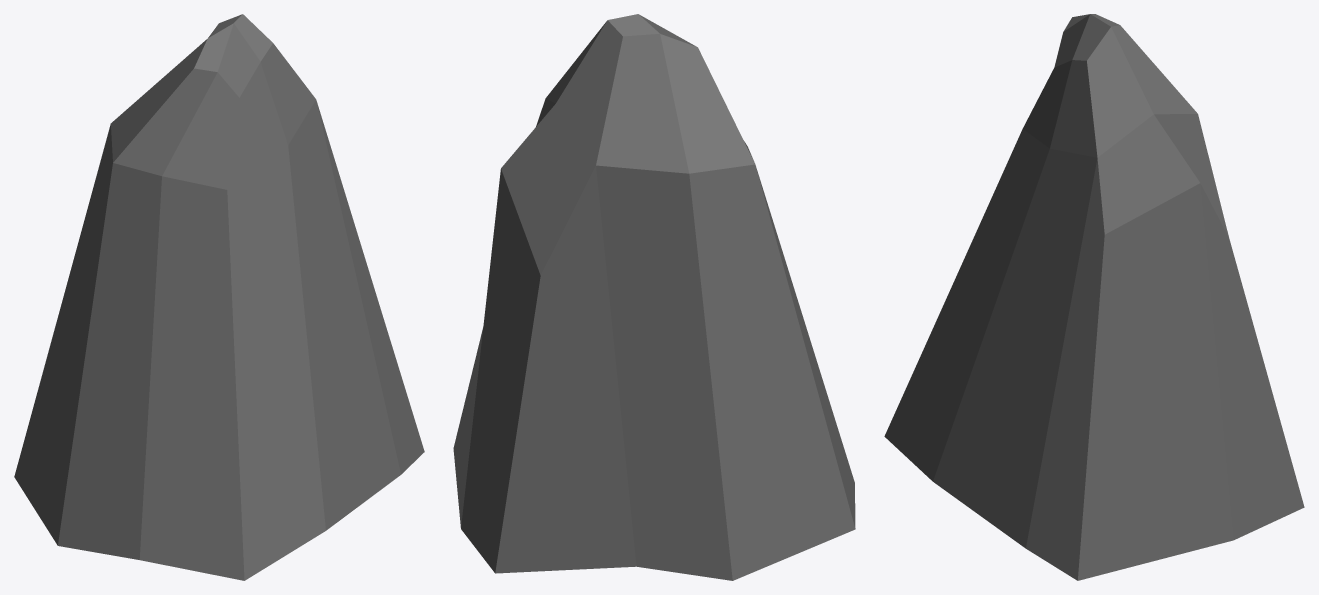
File: M_Rock_Obstacle_3.fbx
The picture shows the model from 3 angles, left to right: view 1: azimuth 30°, elevation 25°; view 2: azimuth 150°, elevation 25°; view 3: azimuth 270°, elevation 25°; orthographic projection. The views are drawn at different scales.
Visible parts, largest first — view 1: M_Rock_Obstacle_3; view 2: M_Rock_Obstacle_3; view 3: M_Rock_Obstacle_3.
Boxes of the visible parts, x1,y1,x2,y2 form: M_Rock_Obstacle_3: [14, 14, 424, 580]; M_Rock_Obstacle_3: [453, 14, 855, 580]; M_Rock_Obstacle_3: [884, 14, 1304, 580].
Size of the model in its own units: 346 by 413 by 329.
